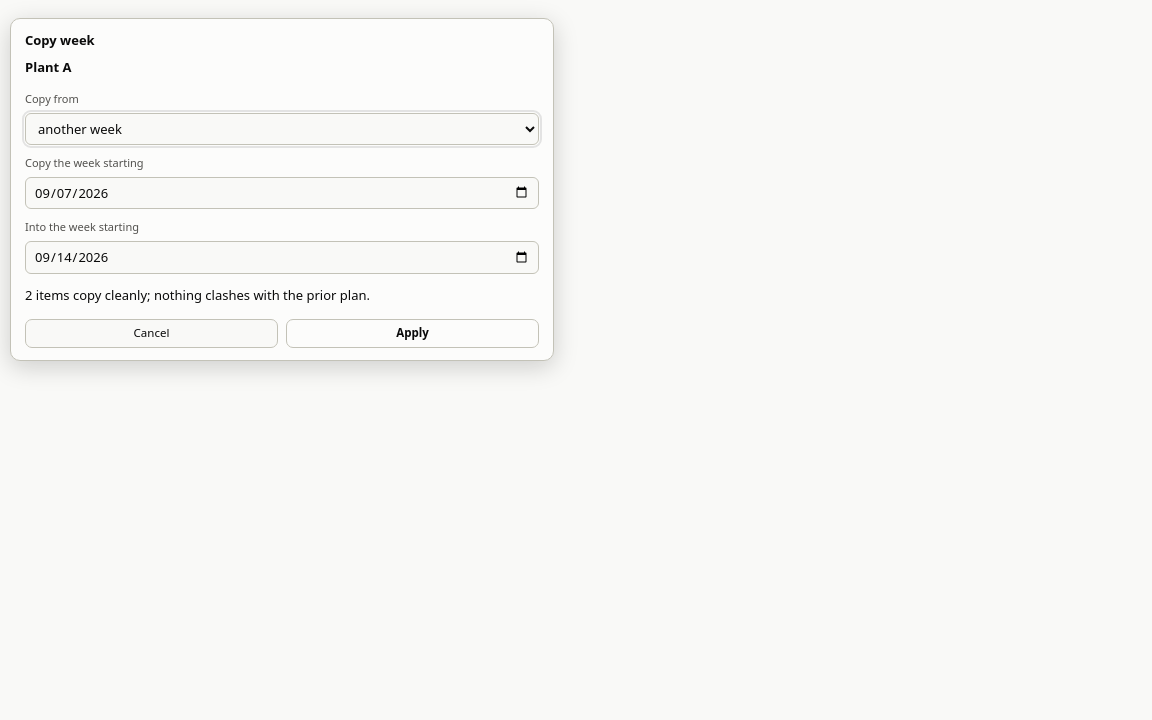
Scenario: CW7: a server error is shown in the dialog with its message › a refused apply shows the sentence and keeps the dialog open
expect the text "2 items copy cleanly; nothing clashes with the prior plan." is shown: met, box [25,286,370,304]
Click the button "Apply" at (412, 333), box [286,319,539,348]
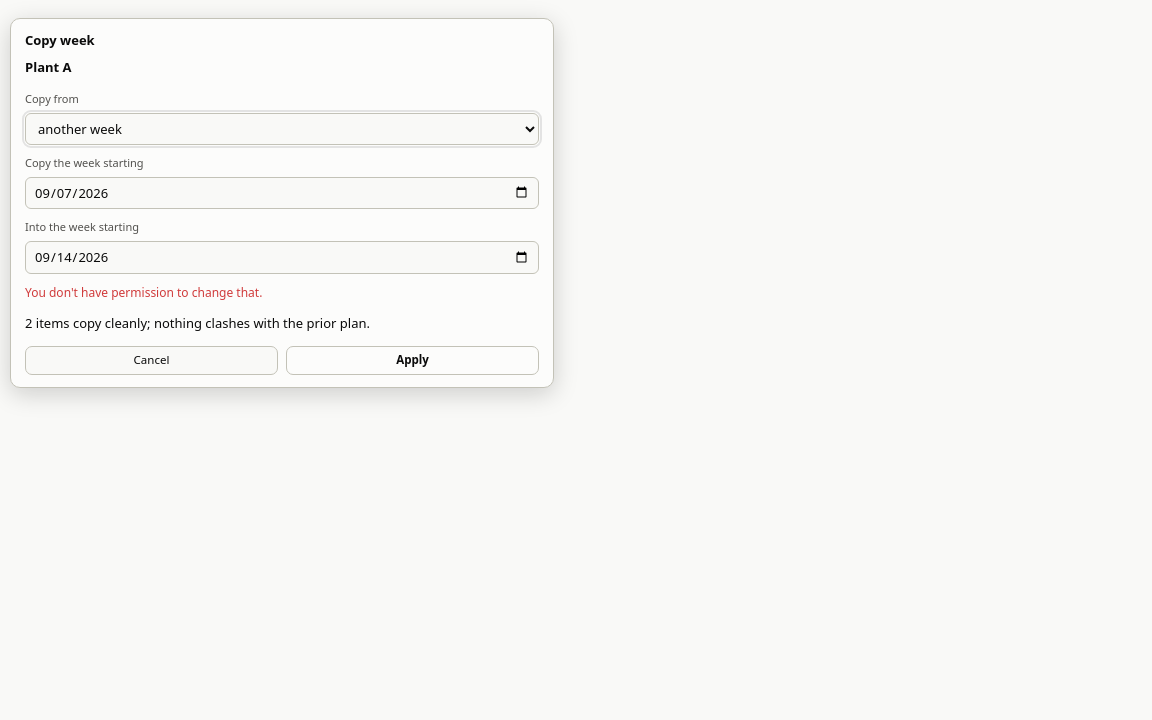
expect the button "Apply" is enabled: met, box [286,346,539,375]
expect the message reads "You don't have permission to change that.": met, box [25,284,262,301]
